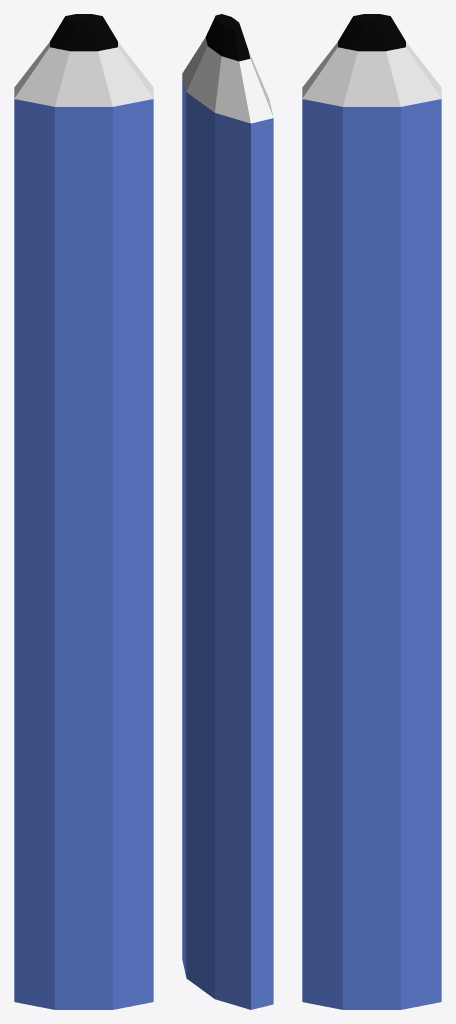
File: pencil04.gltf
The picture shows the model from 3 angles, left to right: view 1: azimuth 90°, elevation 25°; view 2: azimuth 210°, elevation 25°; view 3: azimuth 270°, elevation 25°; orthographic projection.
Visible parts, largest first — view 1: Cylinder; view 2: Cylinder; view 3: Cylinder.
Part boxes in pixels (left/top/right/bottom): Cylinder: left=14, top=14, right=153, bottom=1009; Cylinder: left=182, top=14, right=273, bottom=1009; Cylinder: left=302, top=14, right=441, bottom=1009.
Bounding box in the file's own units: 0.00656 × 0.11 × 0.0142.
1 material, 1 textured.
